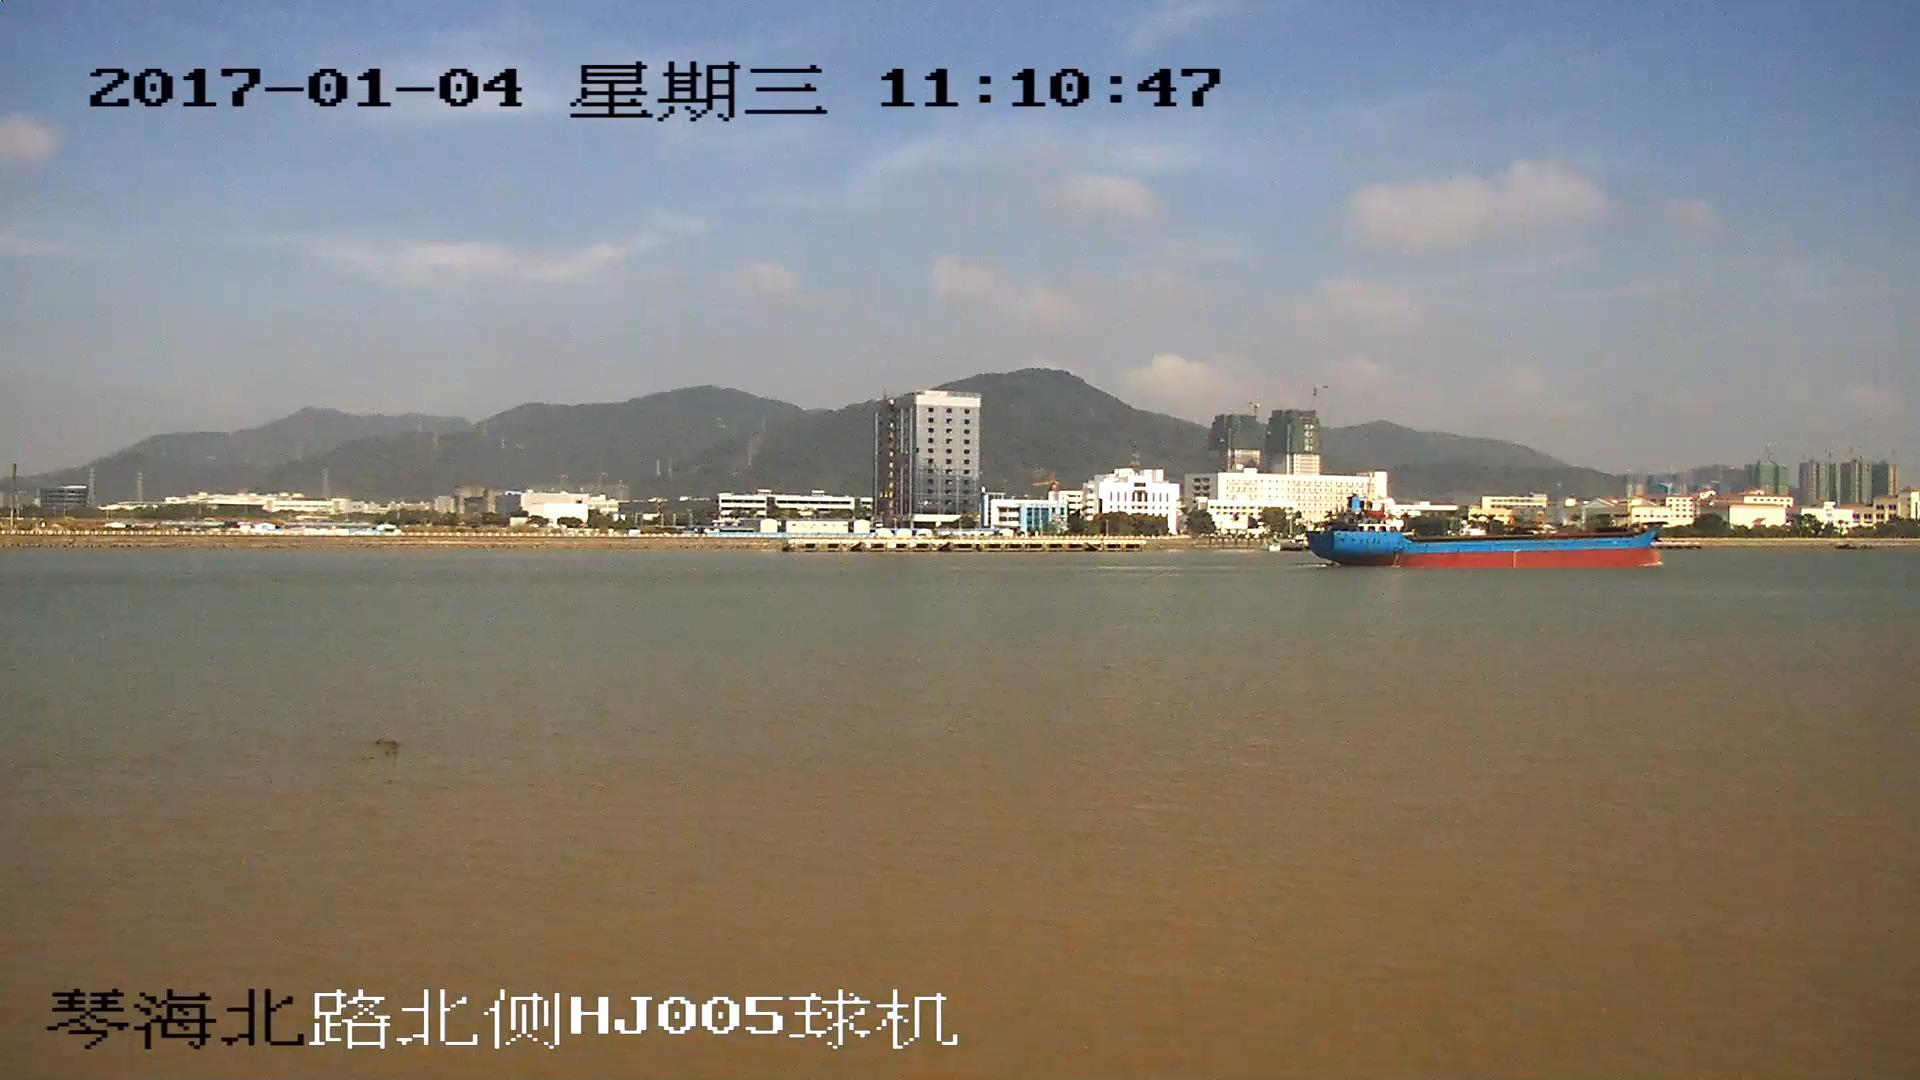Ship: (1313, 496, 1664, 574)
